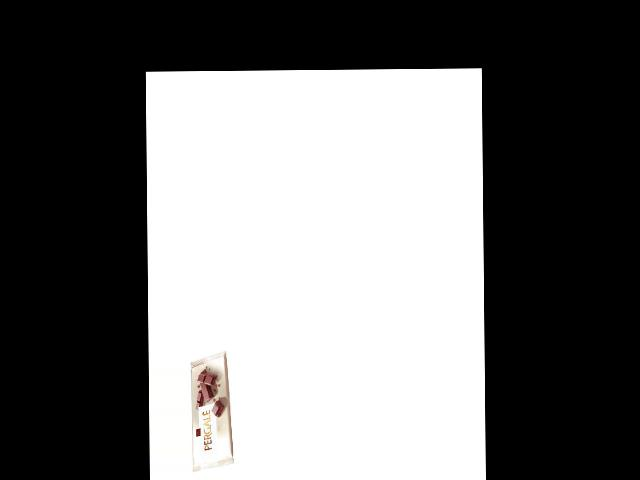chocolate: (190, 348, 232, 473)
